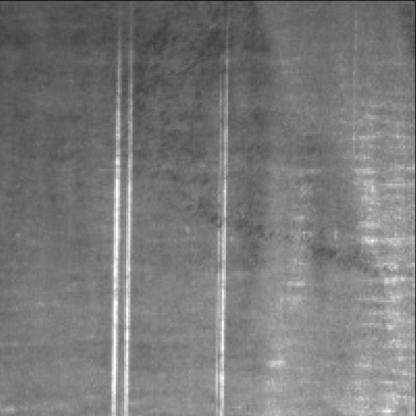scratches: (104, 10, 142, 414), (208, 44, 237, 414)
